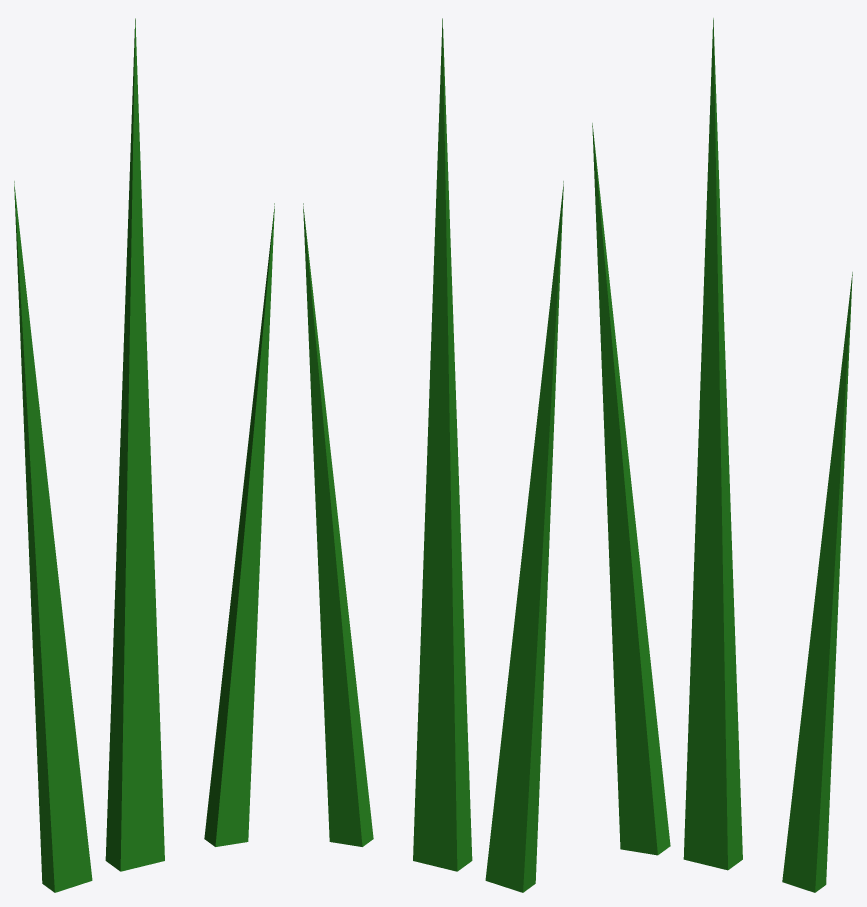
Rendered from Grass_2.fbx.
The picture shows the model from 3 angles, left to right: view 1: azimuth 30°, elevation 25°; view 2: azimuth 150°, elevation 25°; view 3: azimuth 330°, elevation 25°; orthographic projection.
Parts seen in each view (by area): view 1: Grass_2; view 2: Grass_2; view 3: Grass_2.
Part boxes in pixels (bbox=[...]): Grass_2: bbox=[14, 18, 274, 892]; Grass_2: bbox=[303, 18, 563, 892]; Grass_2: bbox=[592, 18, 852, 892].
Size of the model in its own units: 13.75 by 42.97 by 1.36.
